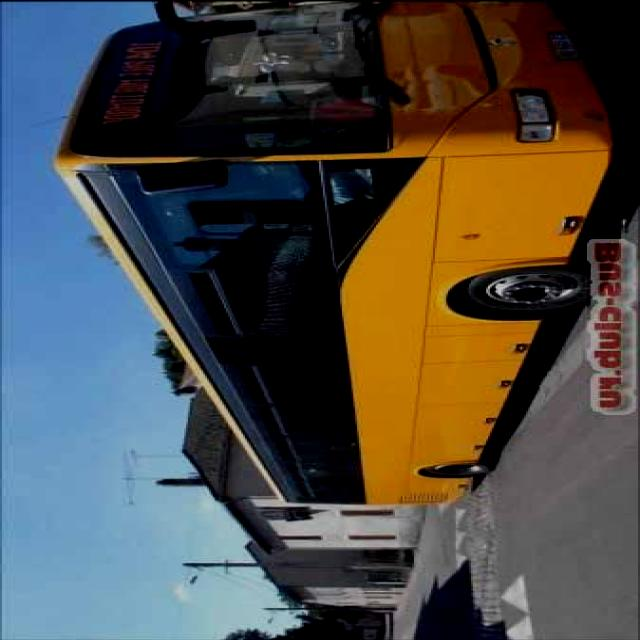bus: (48, 1, 624, 509)
